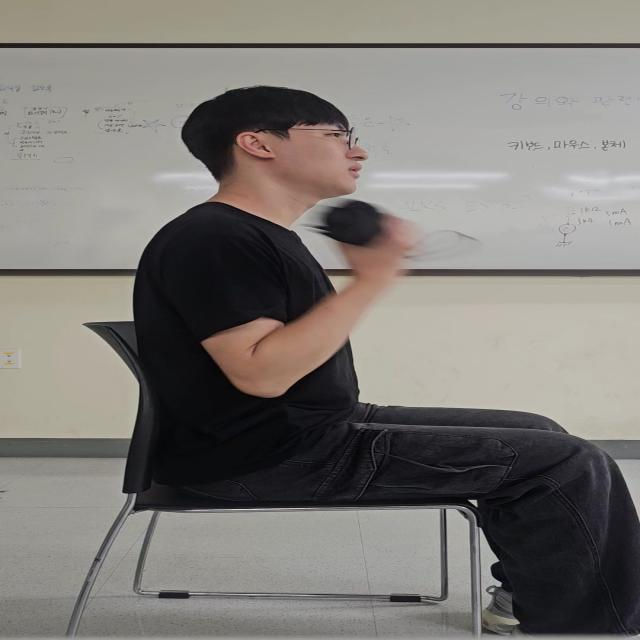curl: (167, 202, 426, 404)
